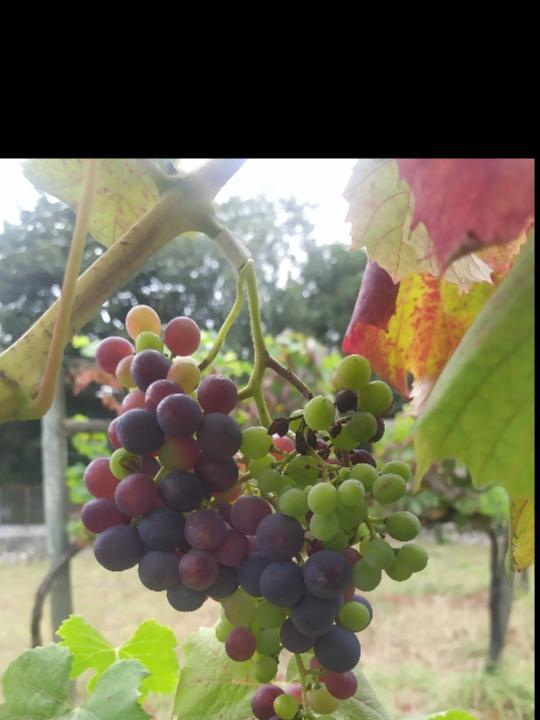grape: (77, 301, 431, 720)
